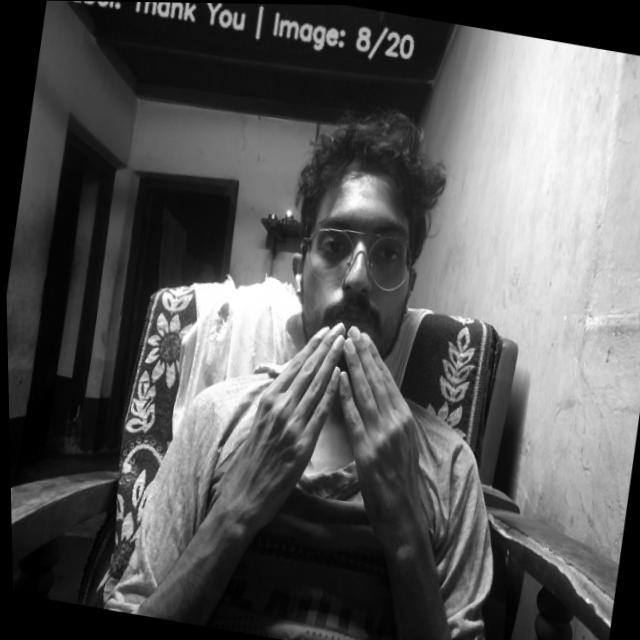Yes: (232, 331, 442, 524)
